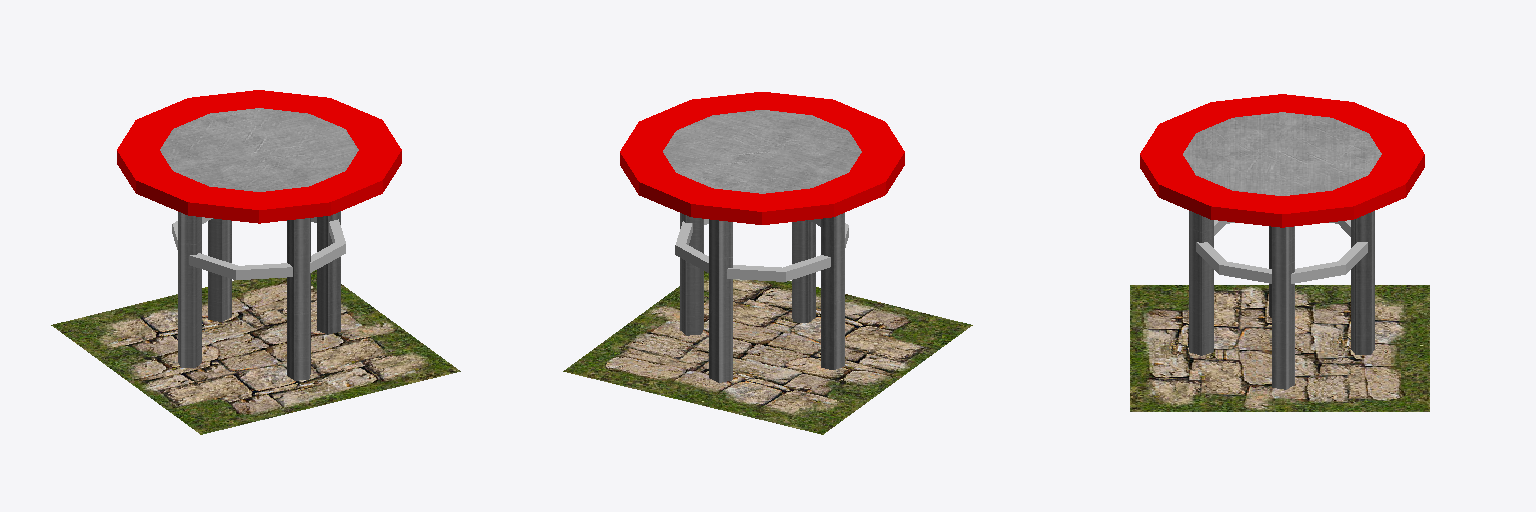
3 views of the same model, side by side, from view 1: azimuth 30°, elevation 25°; view 2: azimuth 150°, elevation 25°; view 3: azimuth 270°, elevation 25° (orthographic).
Bounding box in the file's own units: 2 × 1.53 × 2.
Materials: 5 (3 with a texture image).